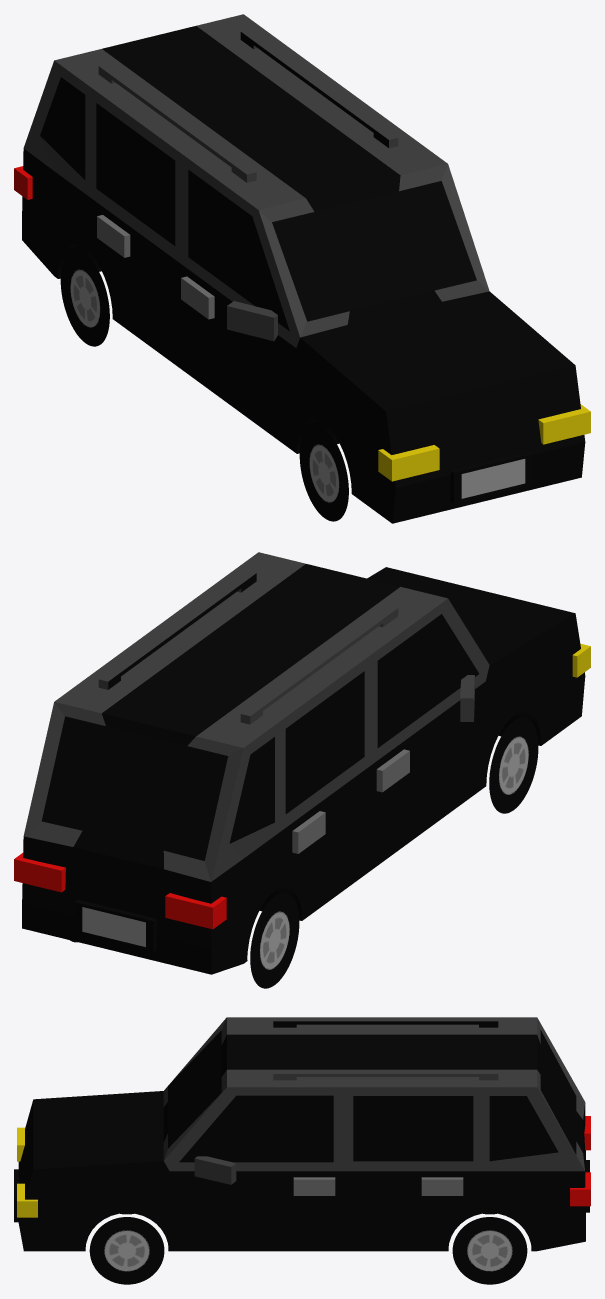
The model's file is Mobil_7_Hitam_D.fbx.
3 views of the same model, one above another, from view 1: azimuth 30°, elevation 25°; view 2: azimuth 150°, elevation 25°; view 3: azimuth 270°, elevation 25° (orthographic). The views are drawn at different scales.
Parts seen in each view (by area): view 1: Mobil4.001; view 2: Mobil4.001; view 3: Mobil4.001.
Part boxes in pixels (<box>): Mobil4.001: <box>14,14,590,523</box>; Mobil4.001: <box>14,552,590,988</box>; Mobil4.001: <box>14,1017,590,1284</box>.
Size of the model in its own units: 519 by 540 by 1385.
Materials: 5 (3 with a texture image).
